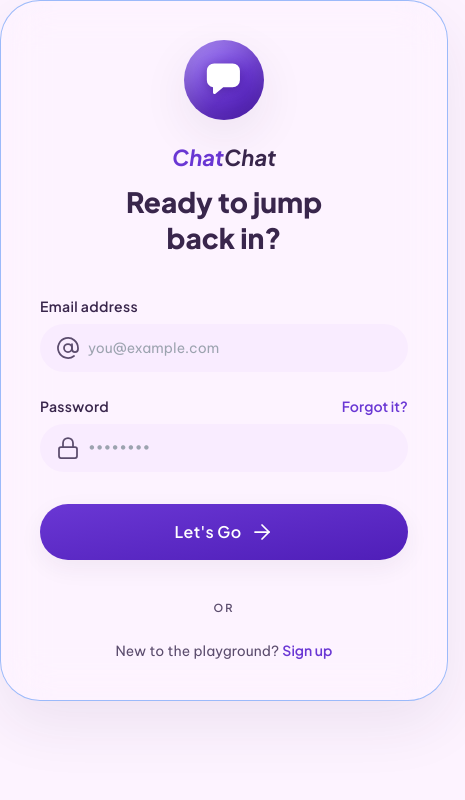
Scenario: <LoginPage /> › credentials step — unexpected (non-ApiError) failure shows generic error
Type "u@example.com" into the field labelled "Email address".
click(224, 348); type("u@example.com")  # box [40, 324, 408, 372]
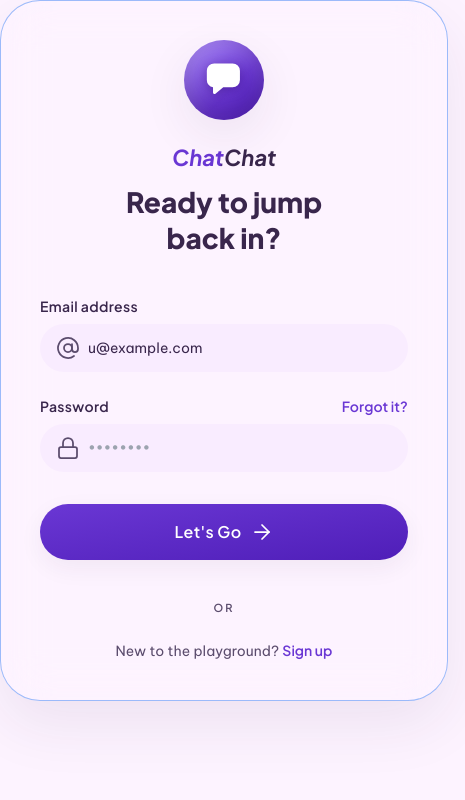
Type "Secret123!" into the password field labelled "Password".
click(224, 448); type("Secret123!")  # box [40, 424, 408, 472]
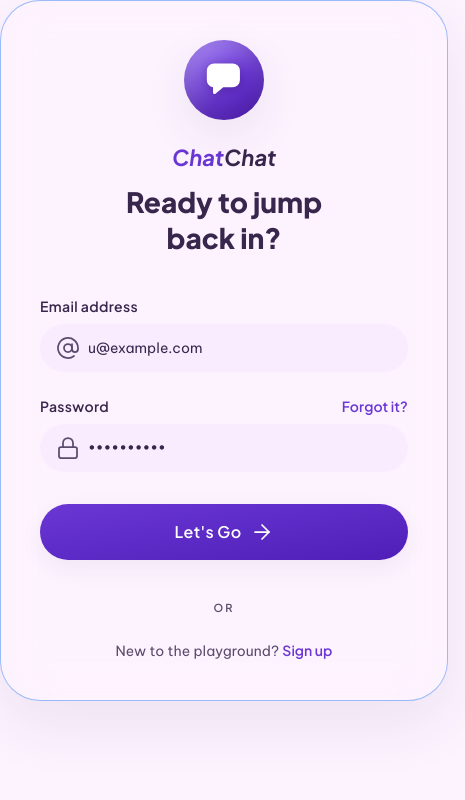
Click the button "Let's Go".
click(224, 532)  # box [40, 504, 408, 560]
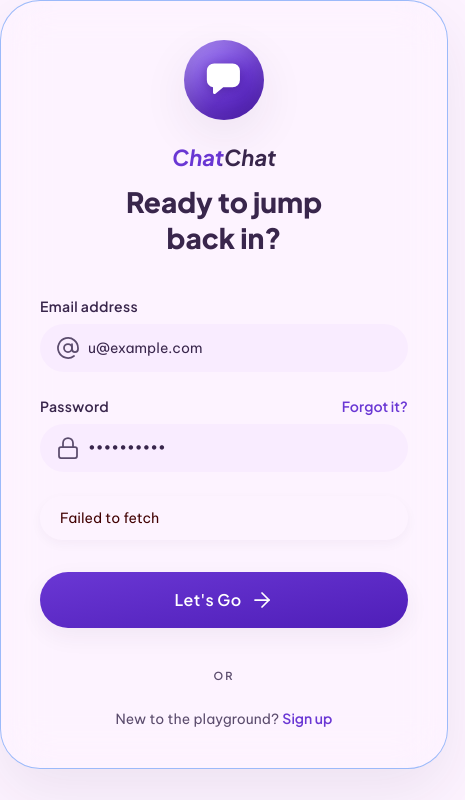
Expected: the text "Failed to fetch" is shown, [40, 496, 408, 540]
